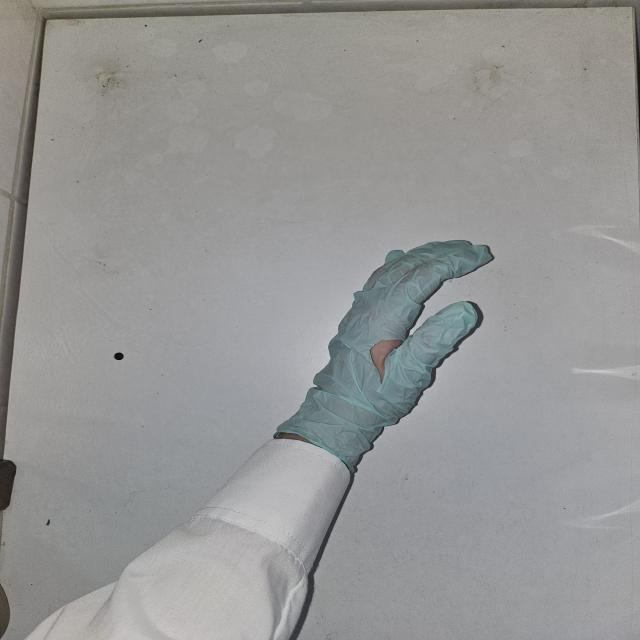gloves_damaged: (272, 234, 496, 472)
